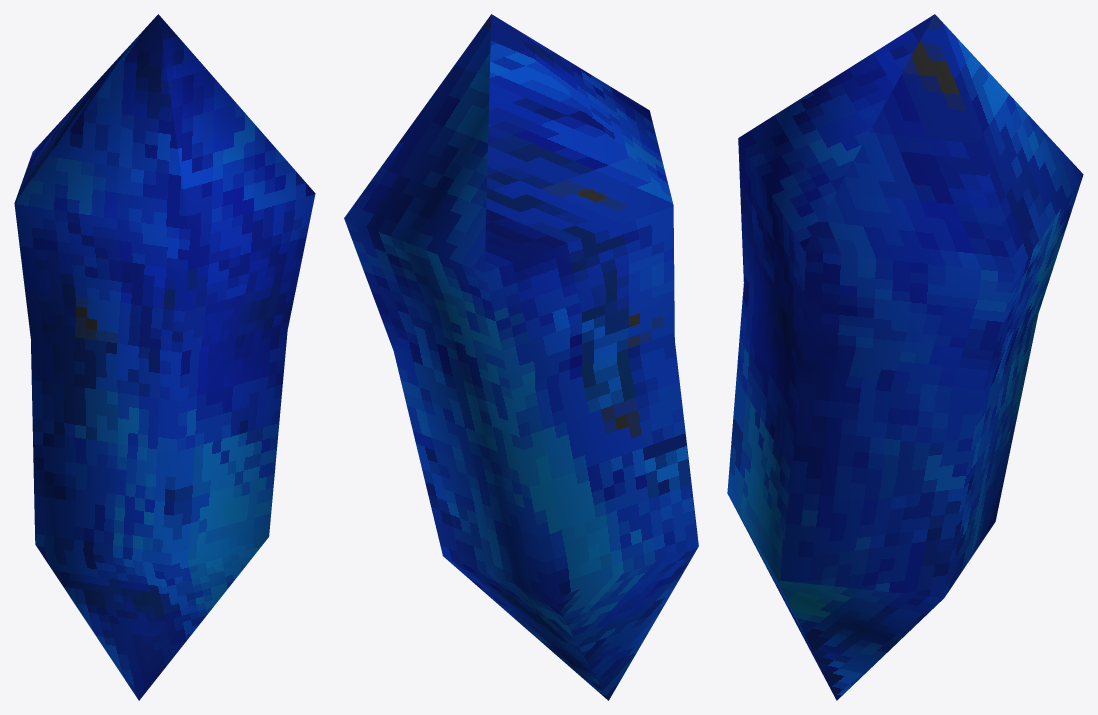
The model's file is OUBLIETTECRYSTAL1.fbx.
The picture shows the model from 3 angles, left to right: view 1: azimuth 30°, elevation 25°; view 2: azimuth 150°, elevation 25°; view 3: azimuth 270°, elevation 25°; orthographic projection. The views are drawn at different scales.
Parts seen in each view (by area): view 1: OUBLIETTECRYSTAL1; view 2: OUBLIETTECRYSTAL1; view 3: OUBLIETTECRYSTAL1.
Part boxes in pixels (bbox=[...]): OUBLIETTECRYSTAL1: bbox=[14, 14, 315, 700]; OUBLIETTECRYSTAL1: bbox=[344, 14, 698, 700]; OUBLIETTECRYSTAL1: bbox=[727, 14, 1083, 700].
Size of the model in its own units: 2265 by 5434 by 2431.
1 material, 1 textured.
